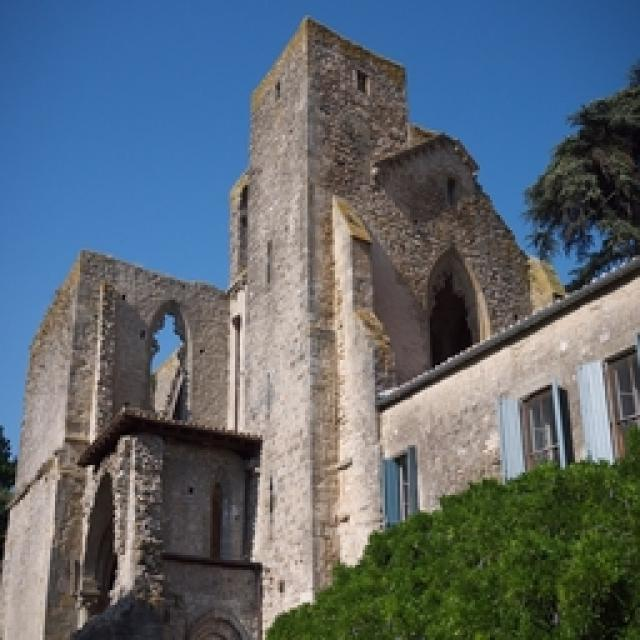Abbey: (410, 238, 508, 385)
